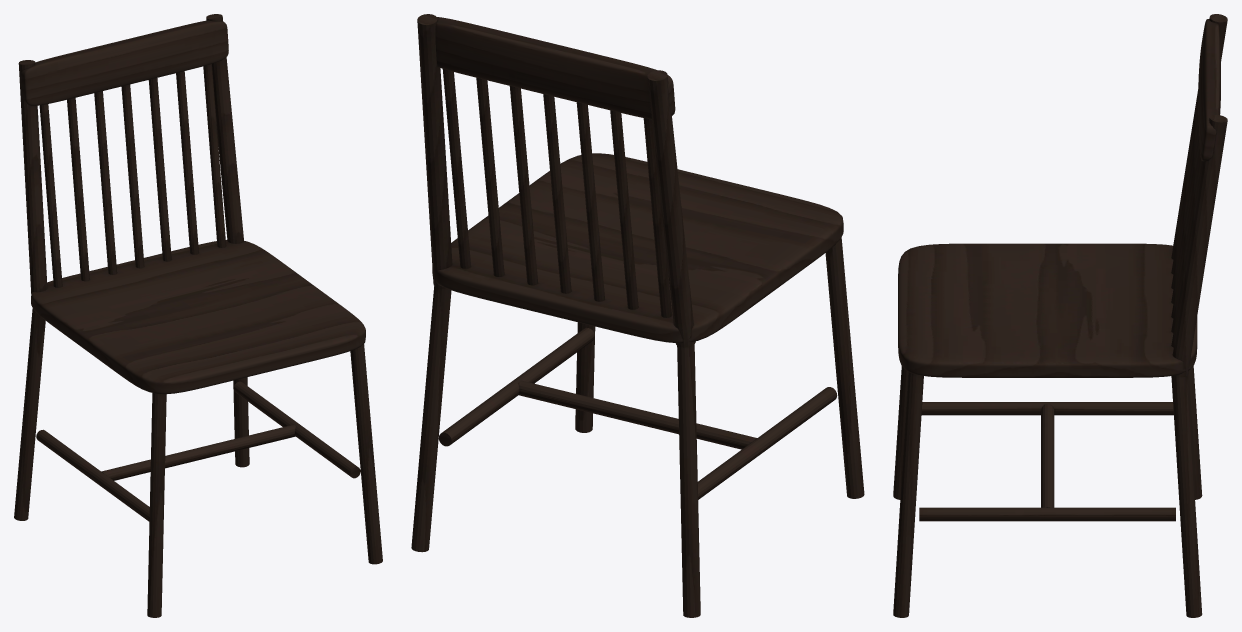
The model's file is windsor-ebony.glb.
The picture shows the model from 3 angles, left to right: view 1: azimuth 30°, elevation 25°; view 2: azimuth 150°, elevation 25°; view 3: azimuth 270°, elevation 25°; orthographic projection. The views are drawn at different scales.
Visible parts, largest first — view 1: wood_h, wood_v, wood_hy; view 2: wood_h, wood_v, wood_hy; view 3: wood_h, wood_v, wood_hy.
Boxes of the visible parts, box(x1,y1,x2,y2) form: wood_h: box(21, 20, 365, 480); wood_v: box(14, 14, 382, 617); wood_hy: box(36, 381, 360, 521); wood_h: box(432, 17, 843, 449); wood_v: box(411, 14, 864, 617); wood_hy: box(438, 327, 837, 499); wood_h: box(898, 19, 1220, 507); wood_v: box(893, 14, 1227, 617); wood_hy: box(919, 402, 1175, 521).
Bounding box in the file's own units: 0.4859 × 0.8832 × 0.5478.
Materials: 3 (3 with a texture image).
